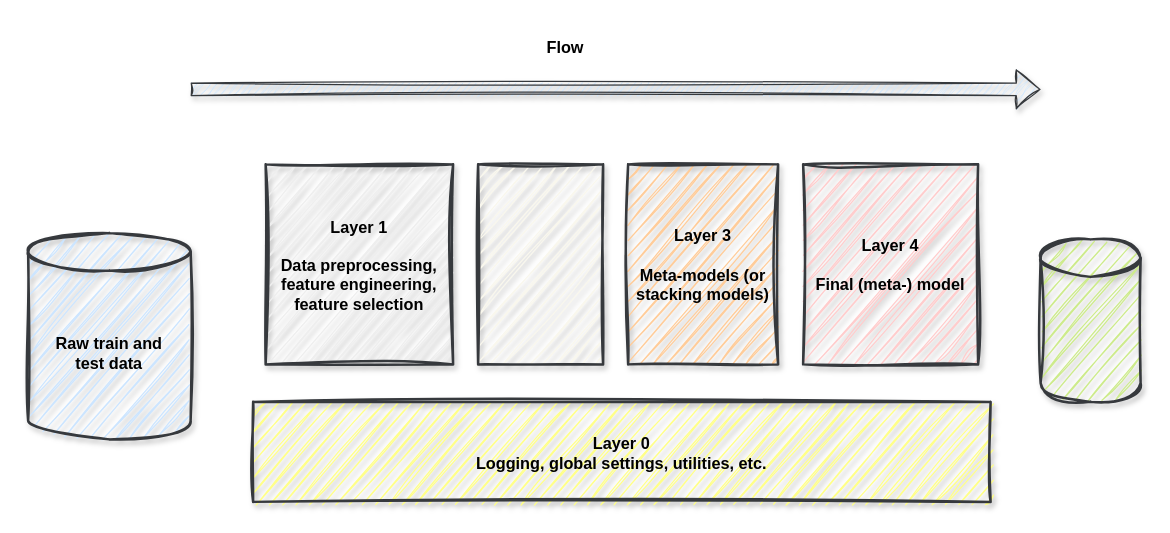
Some shapes in this 1170 by 533 pixel diagram are drawn without their labels. Each missing label, with the centre of its shape:
"Layer 2 Base models" goes at (541,266).
"Predictions" goes at (1091,321).
